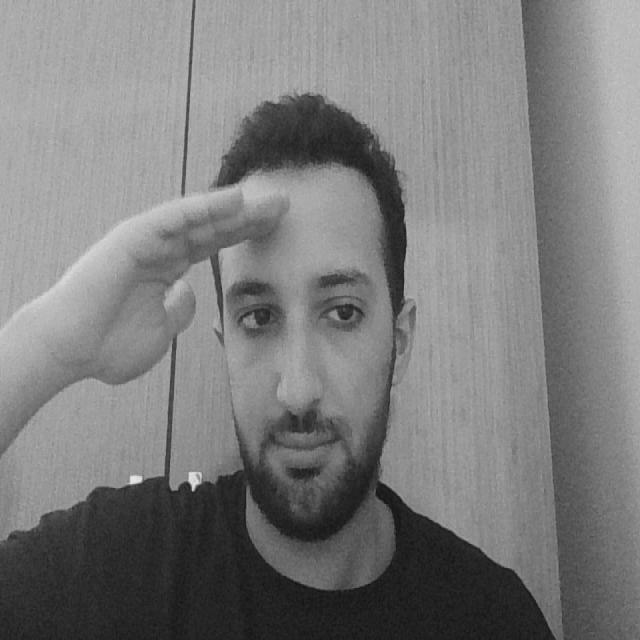Merhaba: (64, 138, 292, 484)
